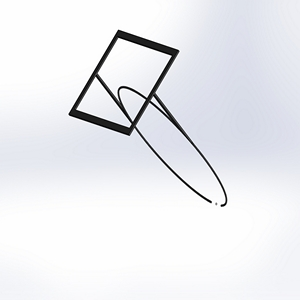circle: (68, 25, 229, 209)
